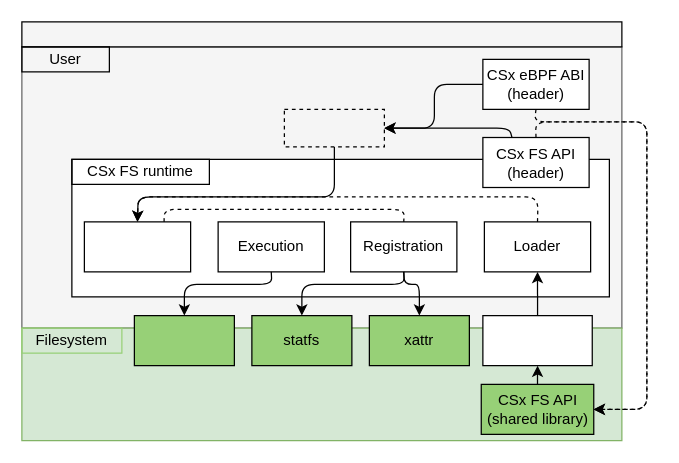
This 679x463 diagram has some shape labels left out. The shapes that lost their labels are listed below. From the top down, each one's centre as x and y in pixels, then its label:
(321,34): Filesystem agnostic CSx kernels
(333,127): bpf-program.c
(137,246): Compilation
(183,340): read / write
(537,340): ICD
